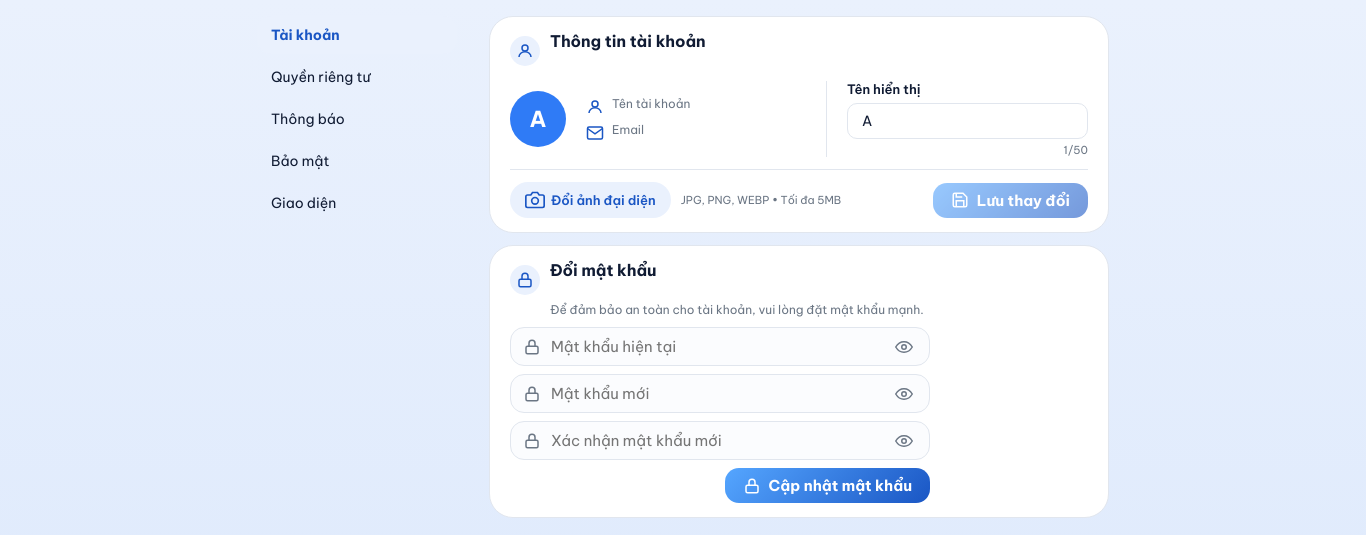
it: TrangCaiDat › lưu thất bại thì hoàn tác trạng thái công tắc và hiển thị lỗi
The image size is (1366, 535).
Click the button "Quyền riêng tư" at (357,77), box [257,58,457,96]
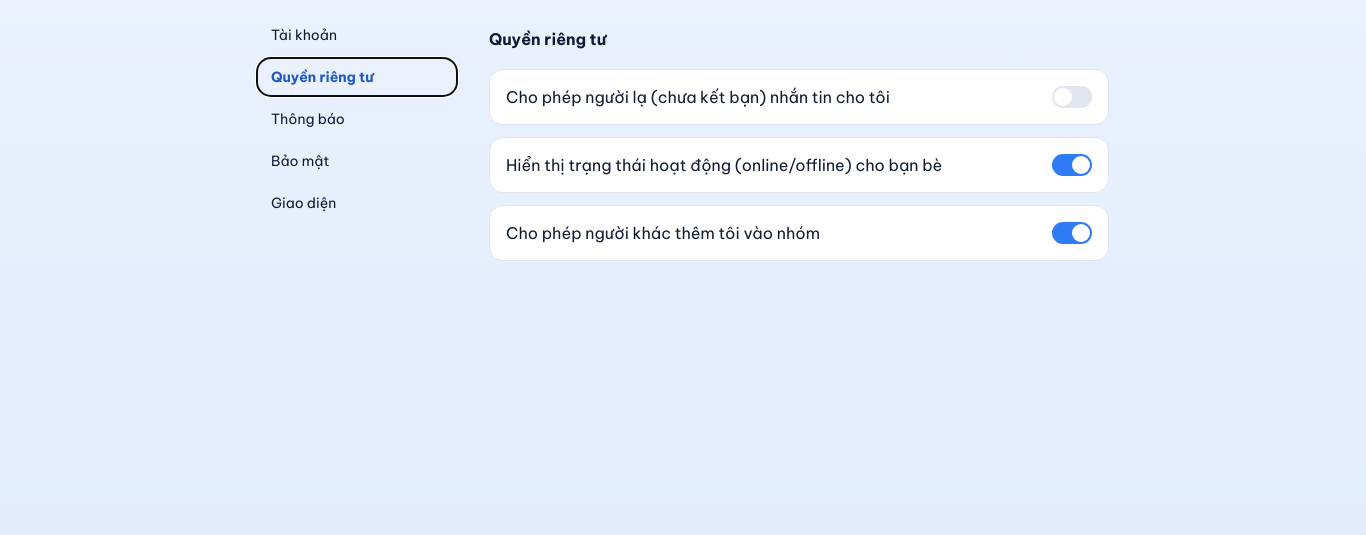
Click the switch named "Cho phép người lạ nhắn tin cho tôi" at (1072,97), box [1052,86,1092,108]
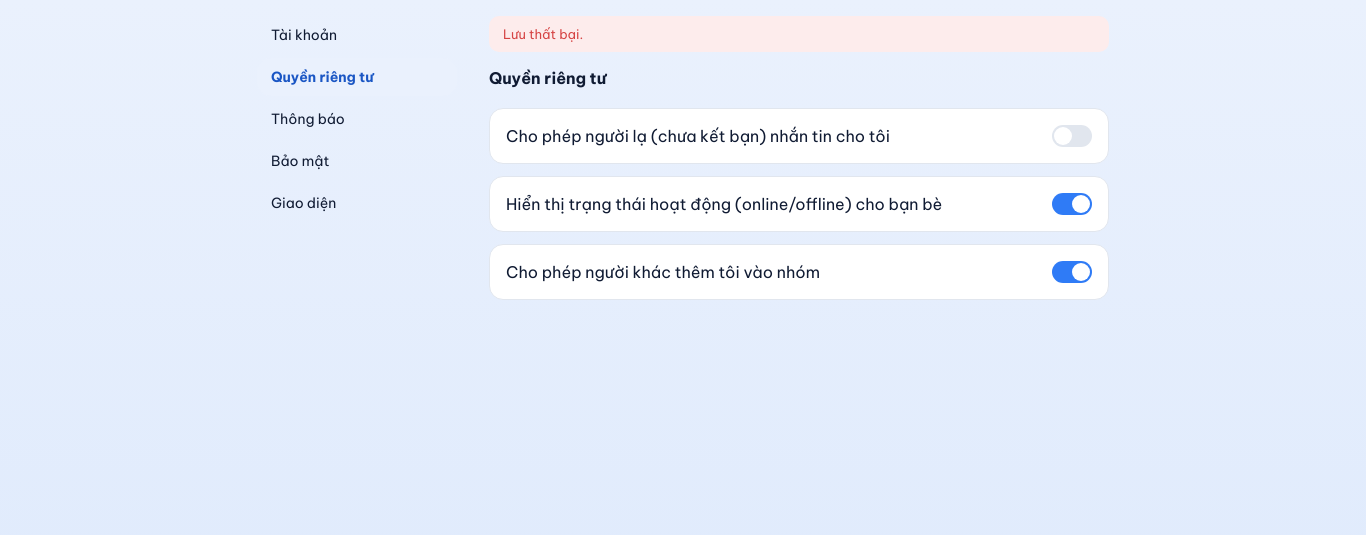
Result: the text "Lưu thất bại." is shown at [489,16,1109,52]
